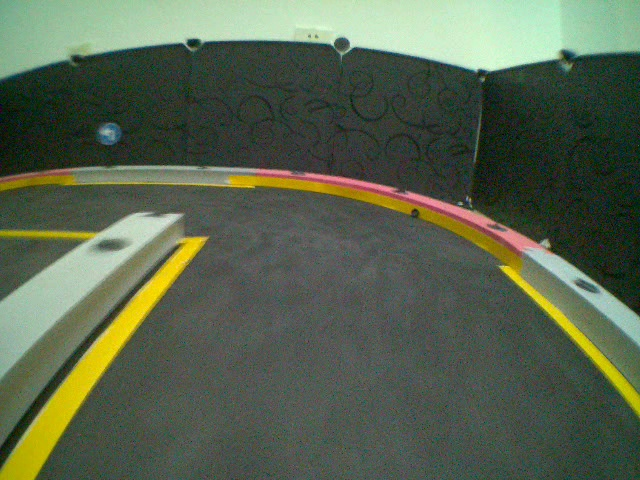turn: (95, 121, 121, 148)
